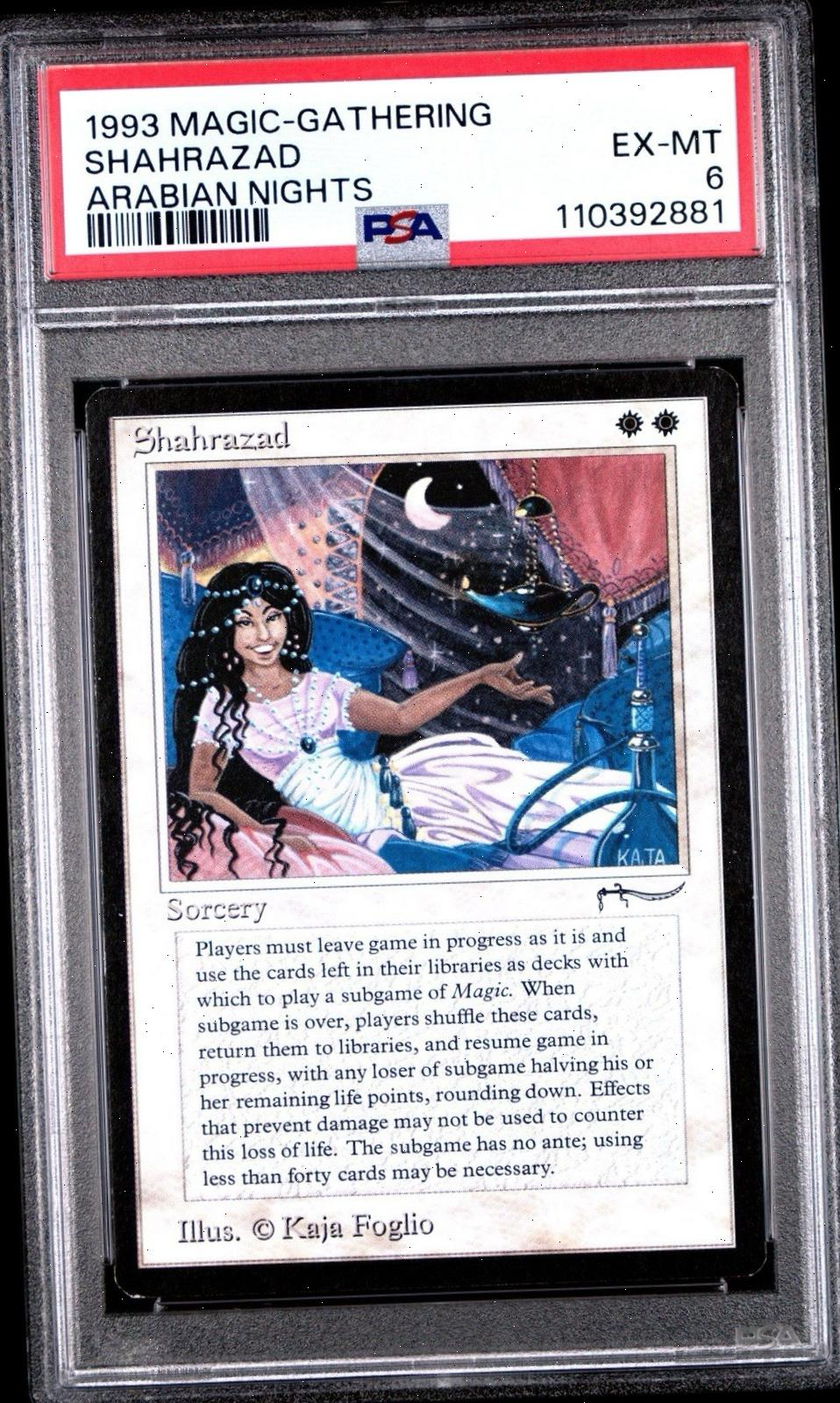card-2UtV: (84, 366, 768, 1299)
